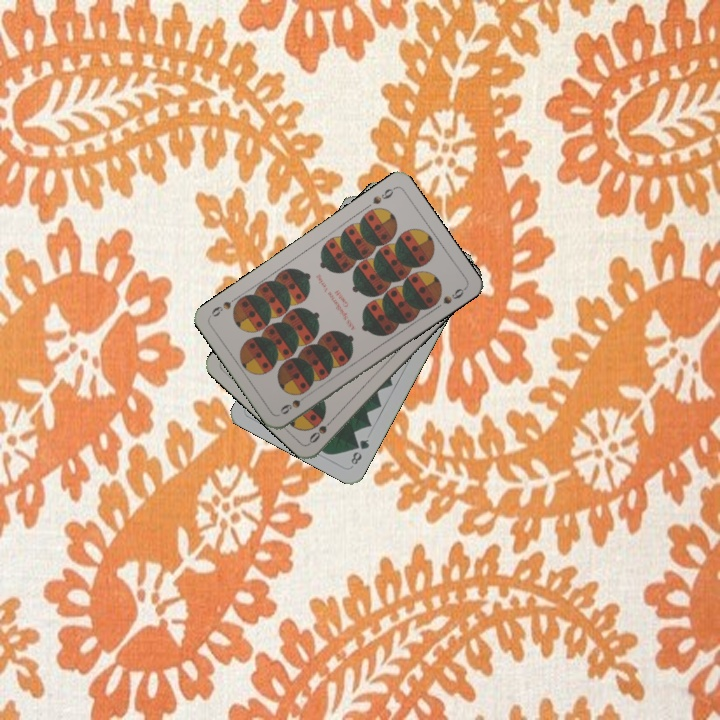G8: (347, 435, 372, 468)
S9: (276, 391, 312, 417), (368, 183, 398, 207)
SO: (305, 413, 337, 446)
